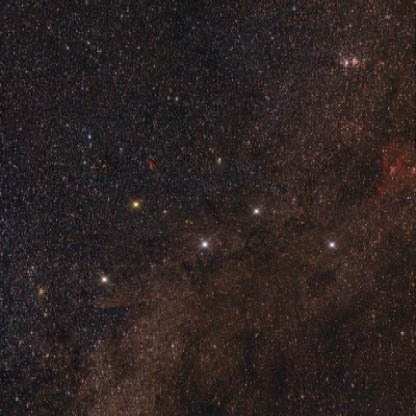Cassiopeia: (125, 191, 172, 224), (193, 230, 220, 262), (246, 196, 270, 228), (90, 267, 120, 290), (319, 229, 342, 254)
